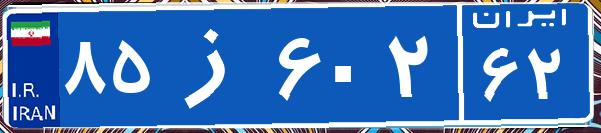0: (330, 28, 385, 110)
2: (385, 28, 445, 110), (525, 38, 570, 115)
5: (110, 28, 158, 105)
6: (273, 28, 330, 110), (475, 38, 525, 113)
8: (57, 26, 110, 107)
ز: (158, 15, 273, 115)
